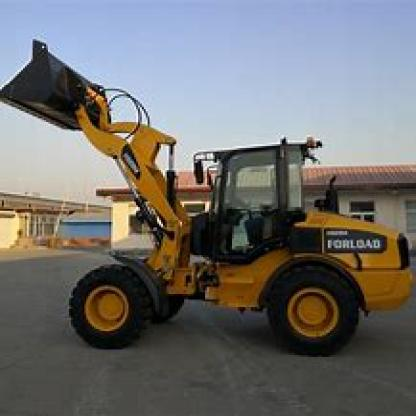bull_dozer/loader/grader: (10, 24, 414, 362)
